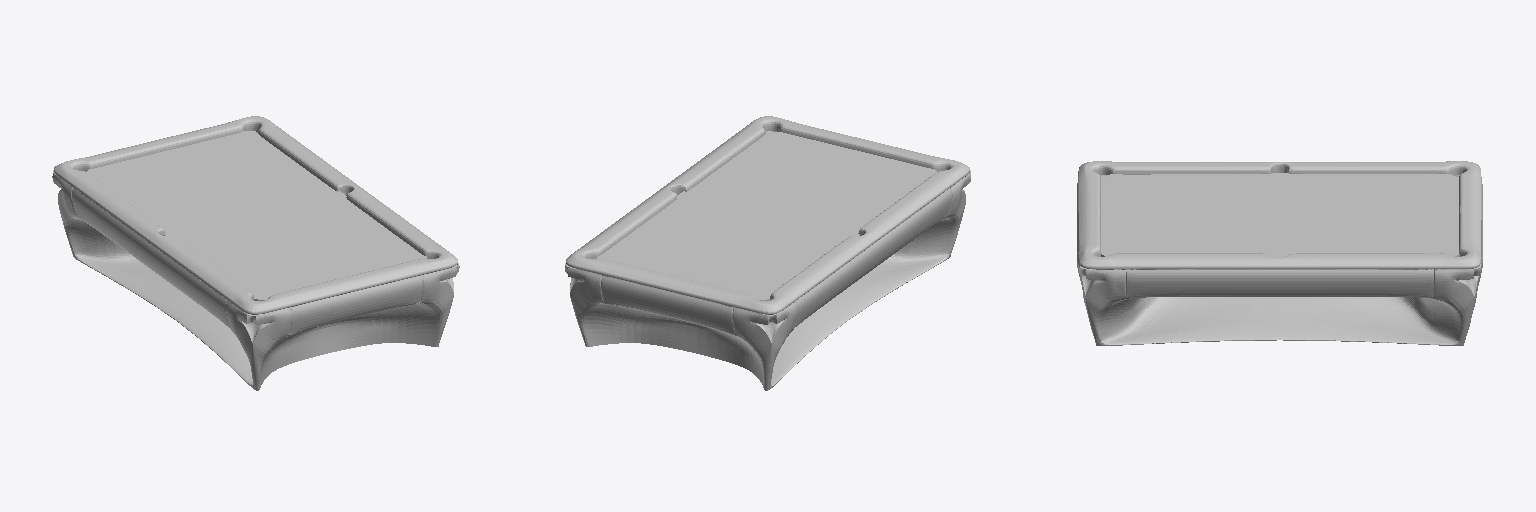
The model's file is pooltable.obj.
3 renders of one model, left to right at view 1: azimuth 30°, elevation 25°; view 2: azimuth 150°, elevation 25°; view 3: azimuth 270°, elevation 25°, orthographic.
Size of the model in its own units: 7.67 by 3.1 by 12.47.